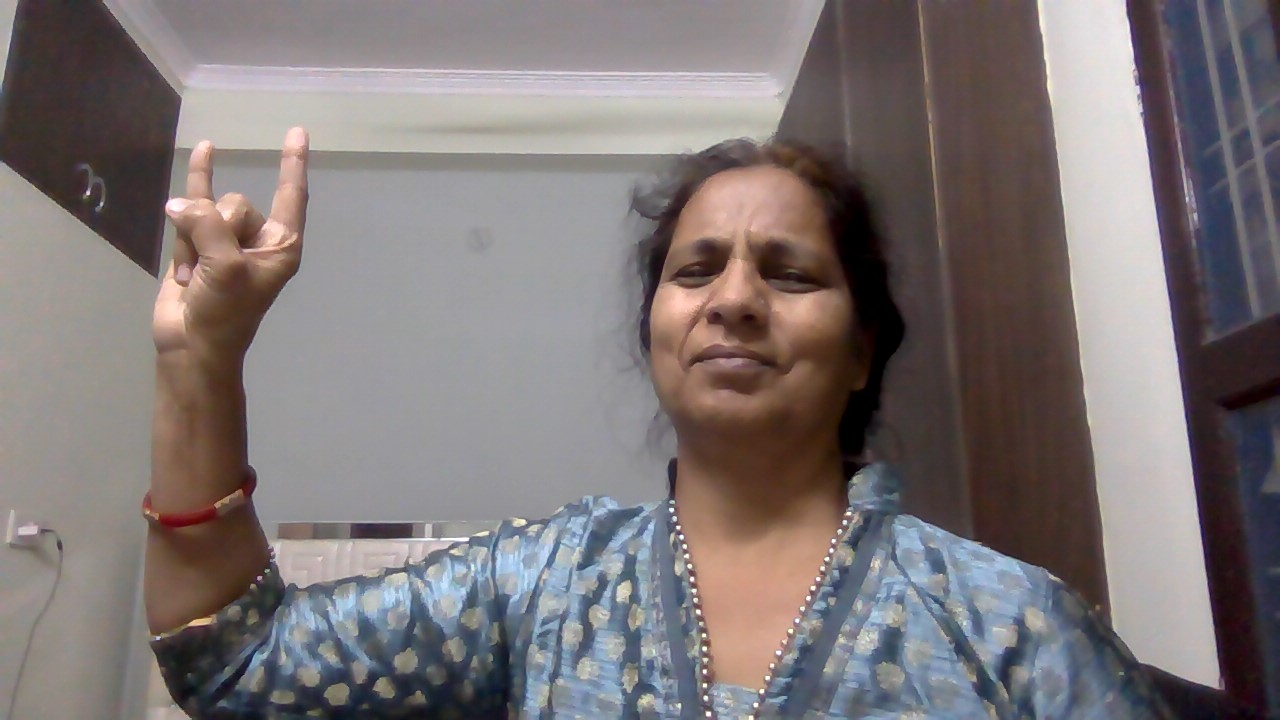Select All: (141, 123, 320, 374)
